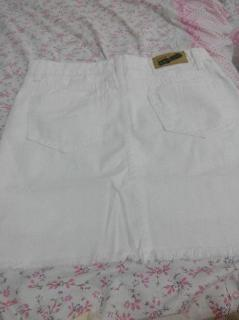skirt: (0, 47, 239, 272)
